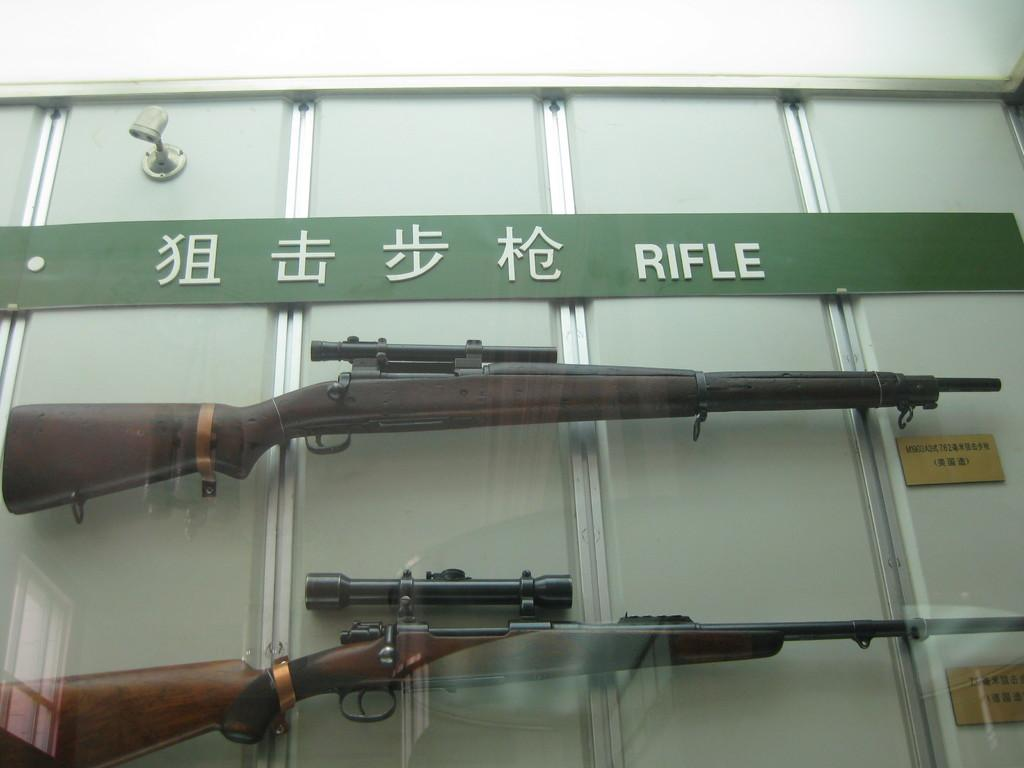Shotgun: (0, 566, 1023, 767), (0, 337, 1003, 527)
